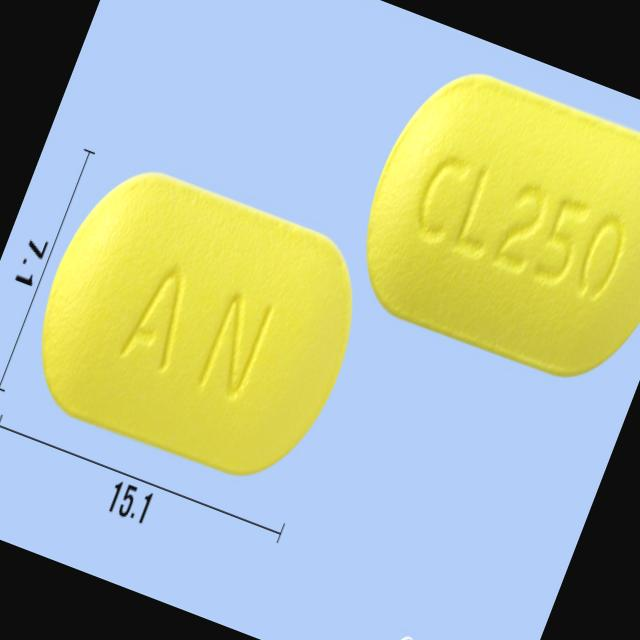New Clato Tab: (11, 150, 382, 498), (335, 49, 640, 401)
